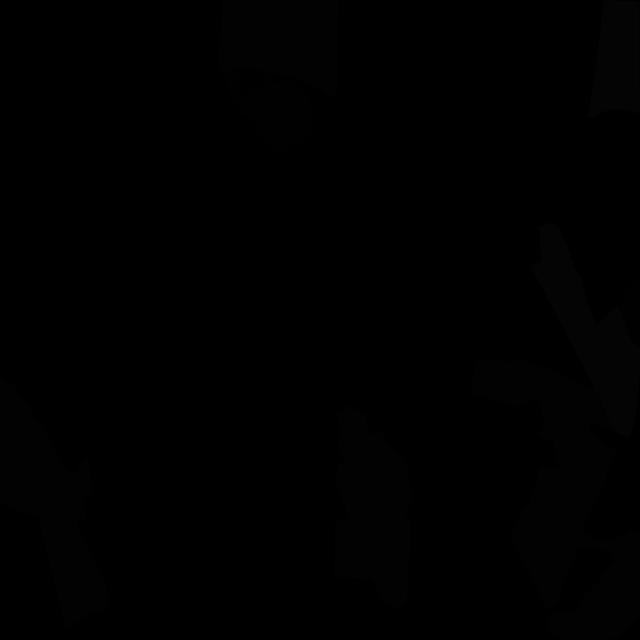cardboard: (0, 375, 108, 631), (510, 430, 640, 639), (334, 404, 412, 608), (470, 358, 617, 441), (218, 0, 339, 100)
rigid_plastic: (224, 70, 314, 154), (617, 278, 640, 347)
soft_plastic: (530, 222, 640, 439), (588, 0, 640, 119)
